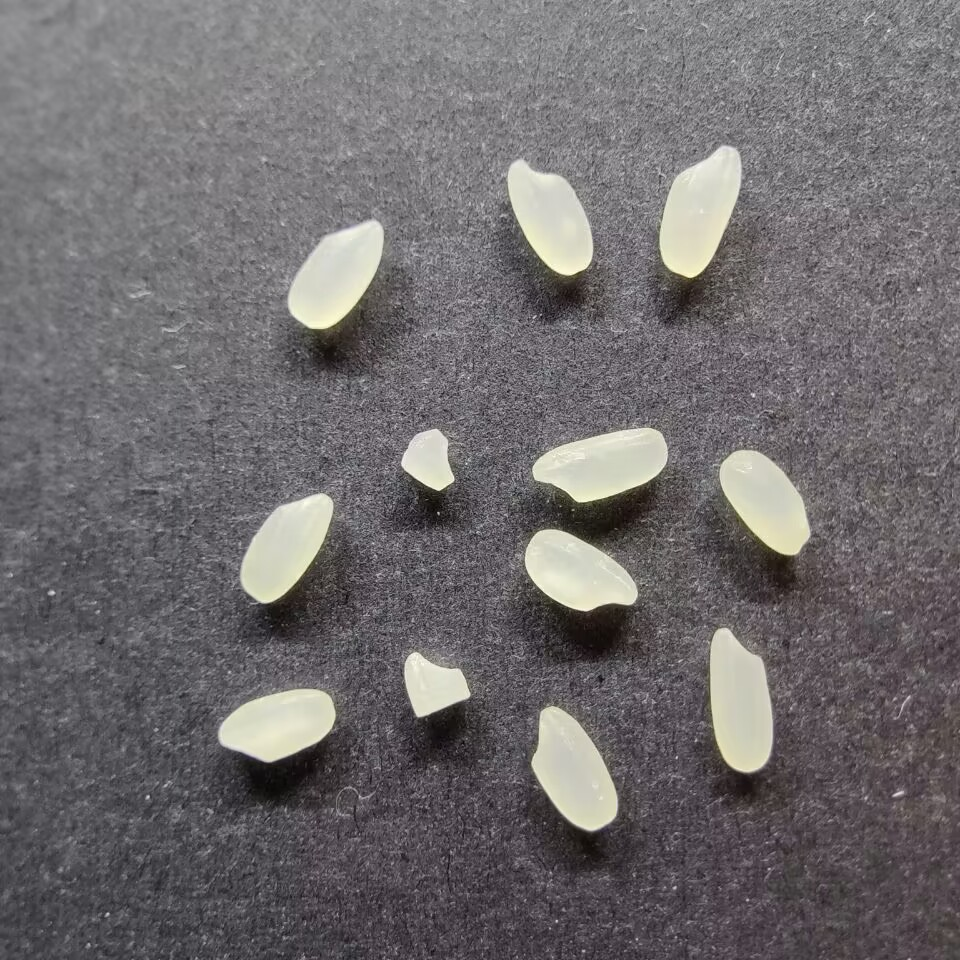broken: (401, 649, 473, 717), (399, 427, 456, 492)
rice: (528, 705, 620, 832), (657, 145, 743, 279), (285, 217, 383, 331), (237, 490, 334, 605), (530, 426, 669, 503), (505, 159, 594, 276), (717, 448, 810, 556), (522, 528, 638, 613), (708, 626, 774, 773), (216, 687, 336, 764)
